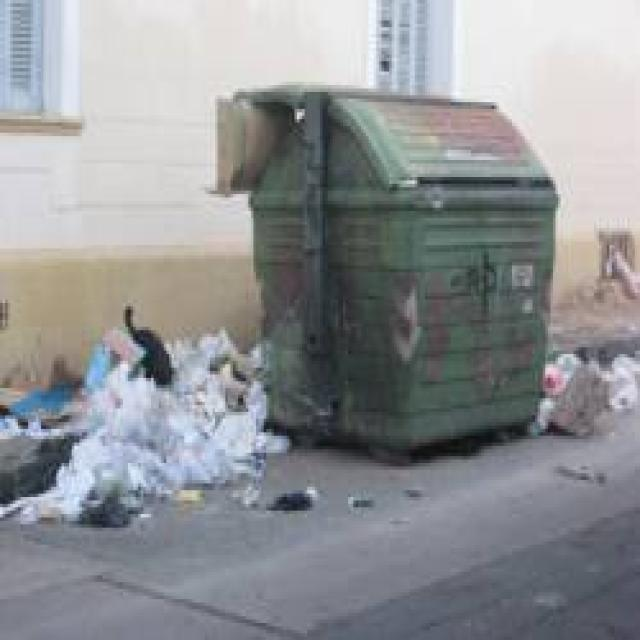garbage: (0, 296, 297, 540), (510, 334, 638, 432)
